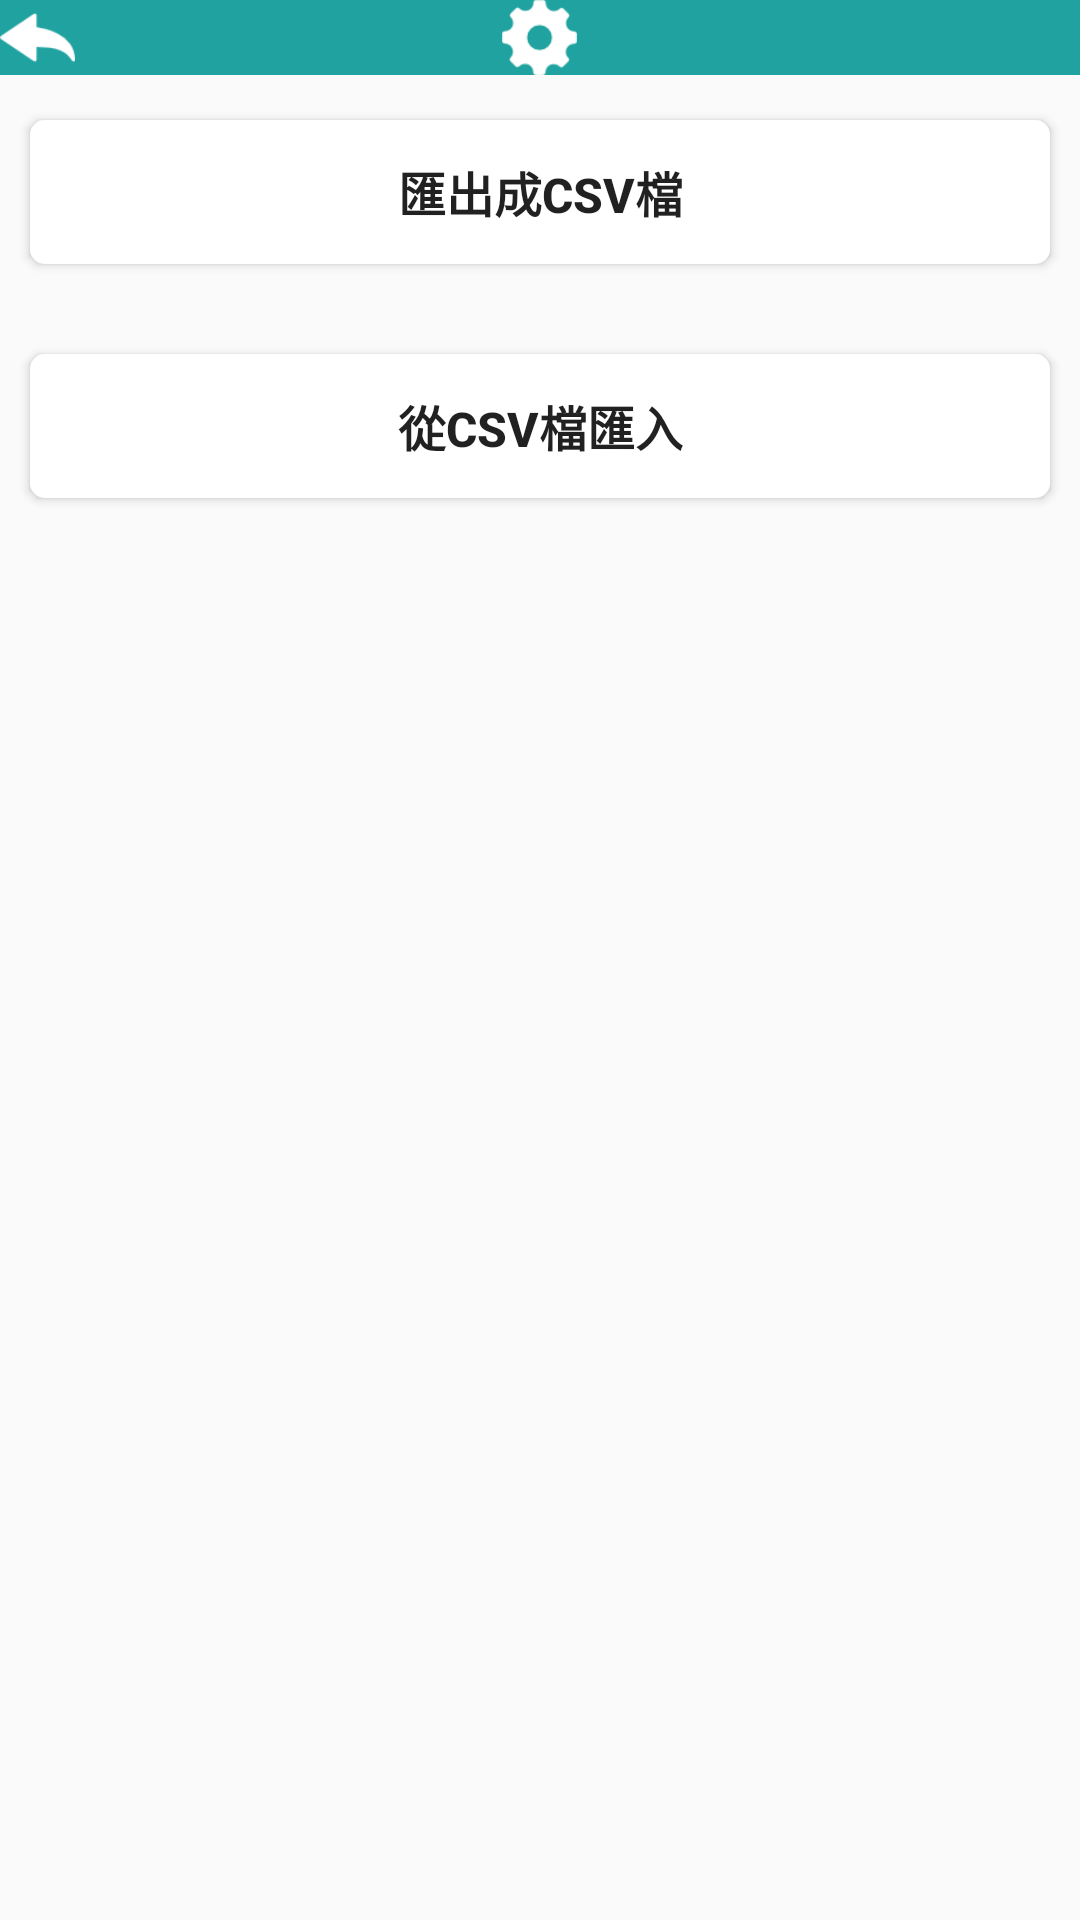

Icons on this 1080 x 1920 Android screen, each with the point to tap as (x=x, y=y):
back: (x=37, y=37)
tools: (x=539, y=37)
